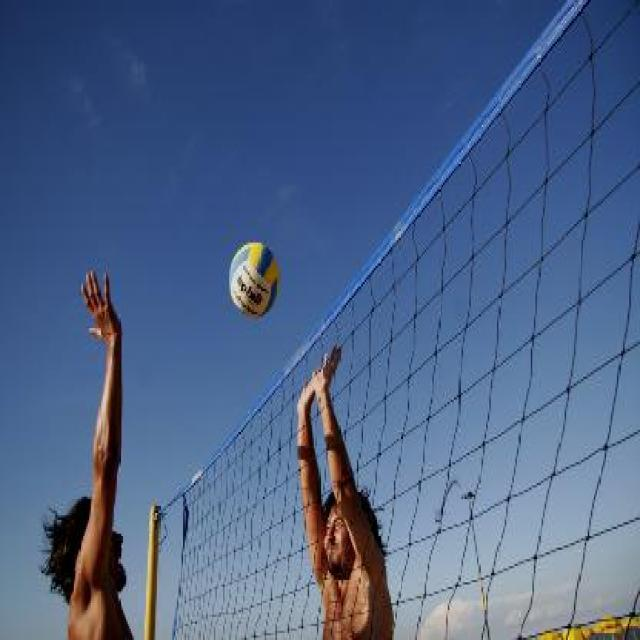volleyball: (228, 242, 280, 318)
